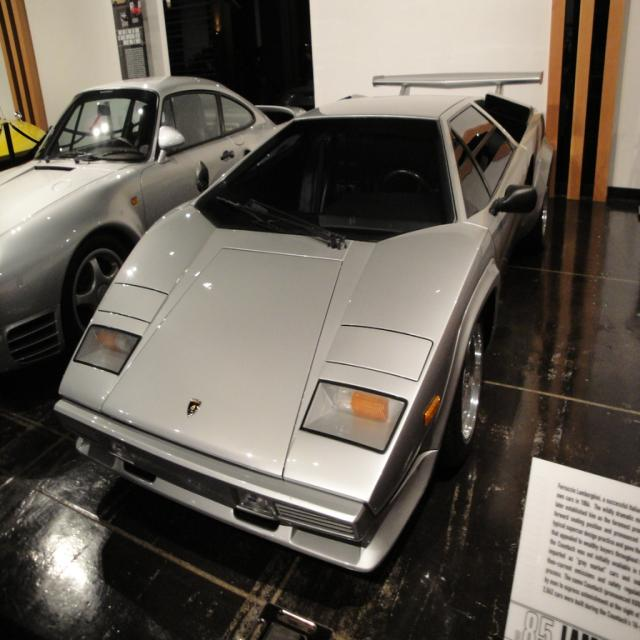car: (78, 86, 528, 587)
